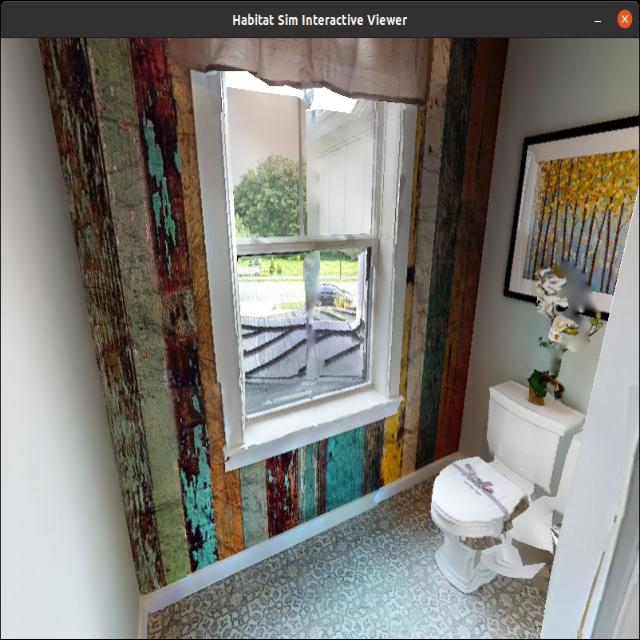toilet: (420, 344, 588, 598)
